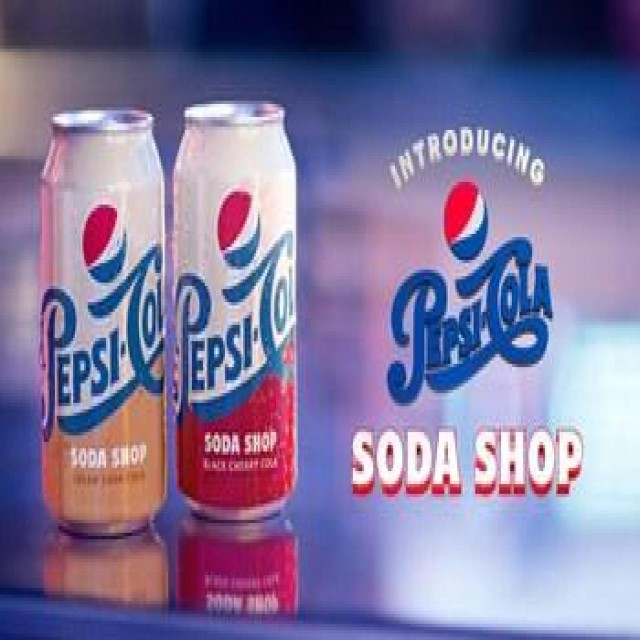pepsi: (214, 187, 261, 268), (445, 178, 487, 266), (84, 206, 125, 282)
